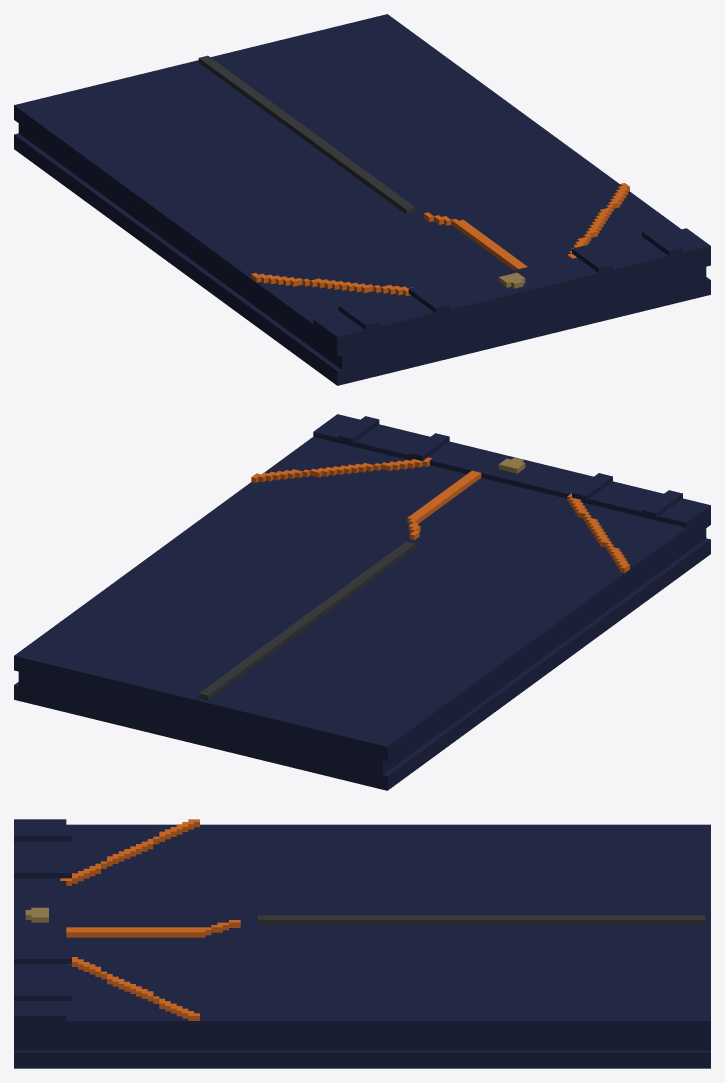
The model's file is jeans_skinny.glb.
3 views of the same model, one above another, from view 1: azimuth 30°, elevation 25°; view 2: azimuth 150°, elevation 25°; view 3: azimuth 270°, elevation 25° (orthographic). The views are drawn at different scales.
Parts seen in each view (by area): view 1: jeans_skinny:compound; view 2: jeans_skinny:compound; view 3: jeans_skinny:compound.
Part boxes in pixels (x1=…): jeans_skinny:compound: x1=14, y1=14, x2=710, y2=385; jeans_skinny:compound: x1=14, y1=414, x2=710, y2=790; jeans_skinny:compound: x1=14, y1=819, x2=710, y2=1068.
Size of the model in its own units: 0.32 by 0.044 by 0.48.
